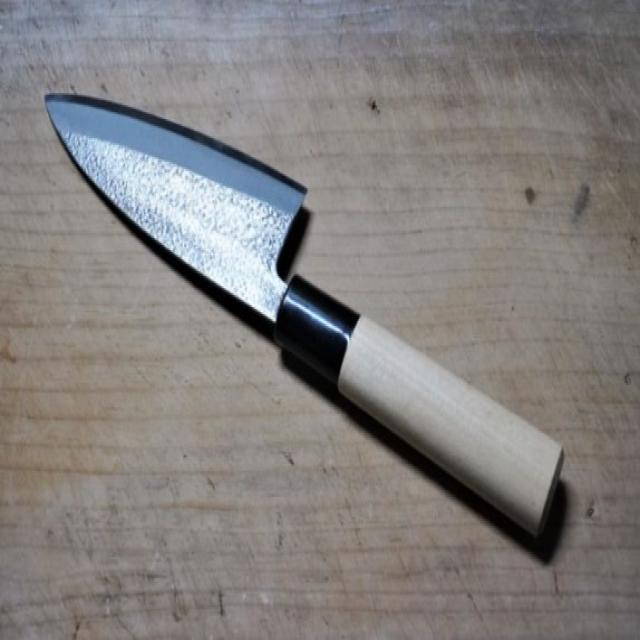Knife: (42, 75, 576, 557)
